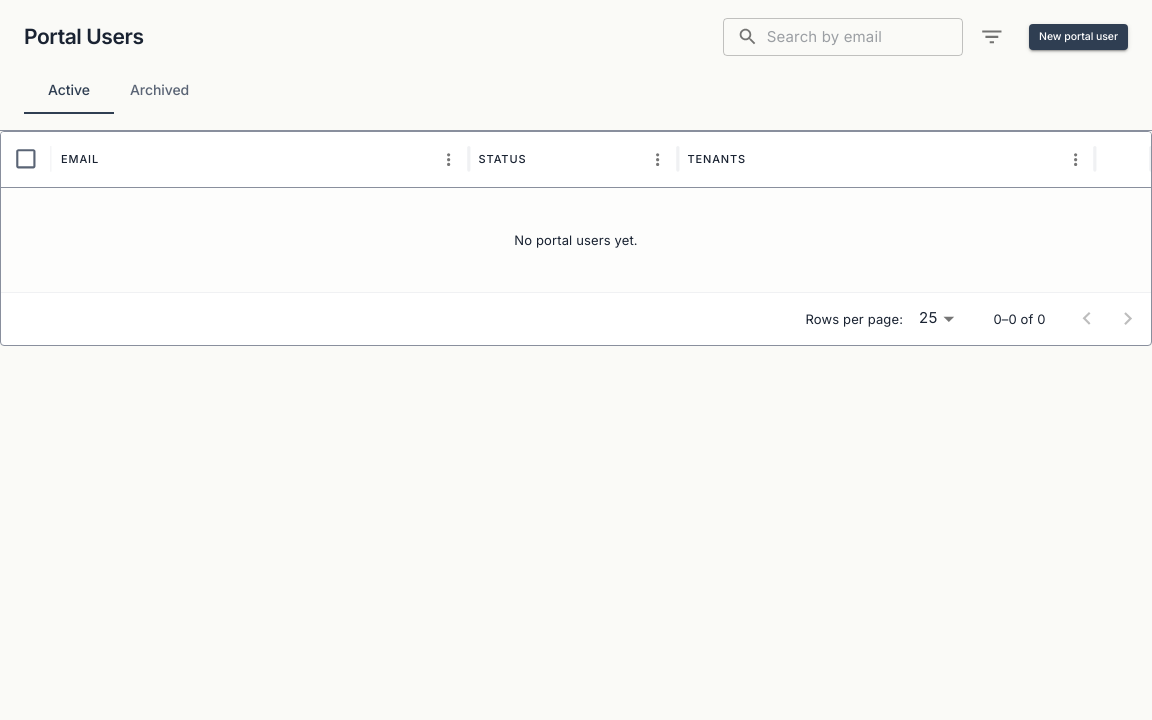
Test: PortalUsersPage › creates a portal user with an idempotency key and reloads the grid
This screenshot has width=1152, height=720.
expect the text "No portal users yet." is shown: met, box [1,188,1151,292]
Click the button "New portal user".
click(1078, 37)  # box [1029,24,1128,50]
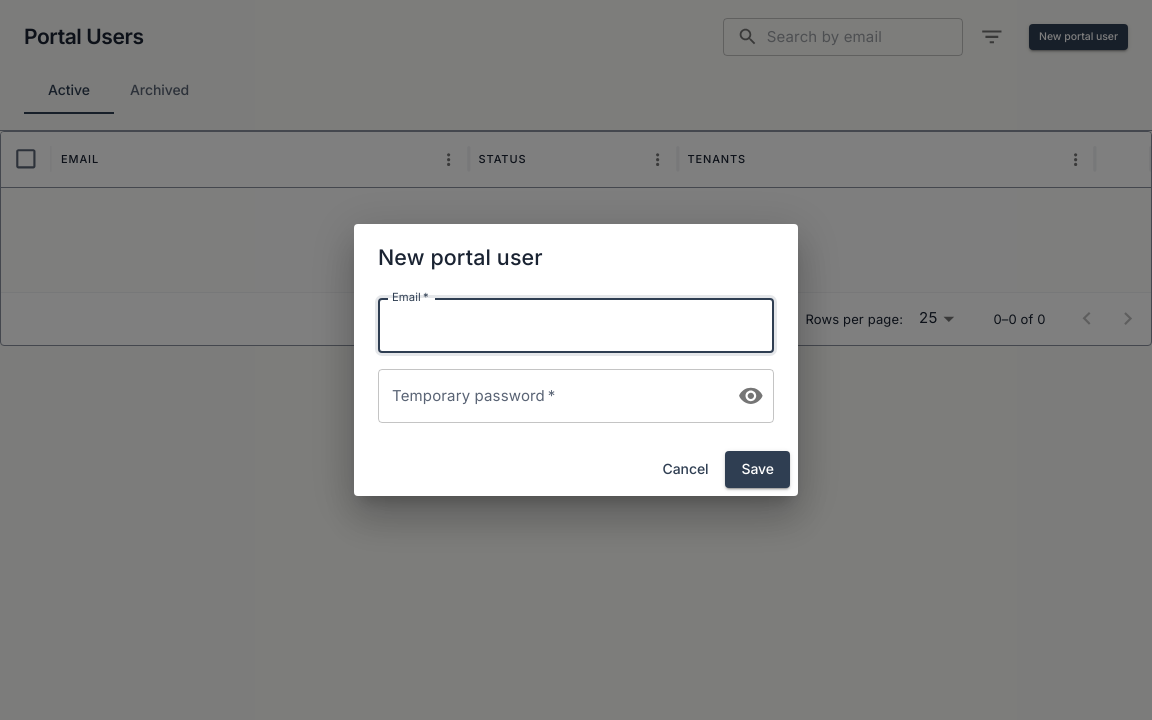
Type "a@example.com" into the field labelled "Email *".
click(576, 326); type("a@example.com")  # box [378,298,774,353]
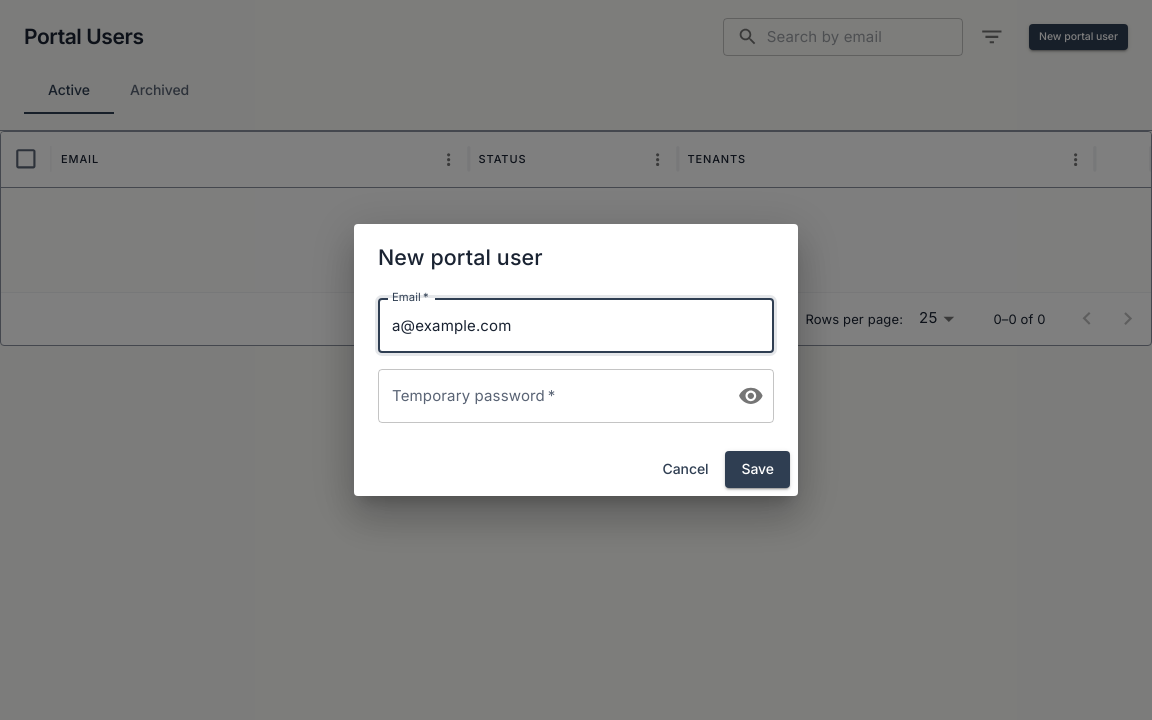
Type "a-temp-password" into the password field labelled "Temporary password *".
click(550, 396); type("a-temp-password")  # box [378,369,722,424]
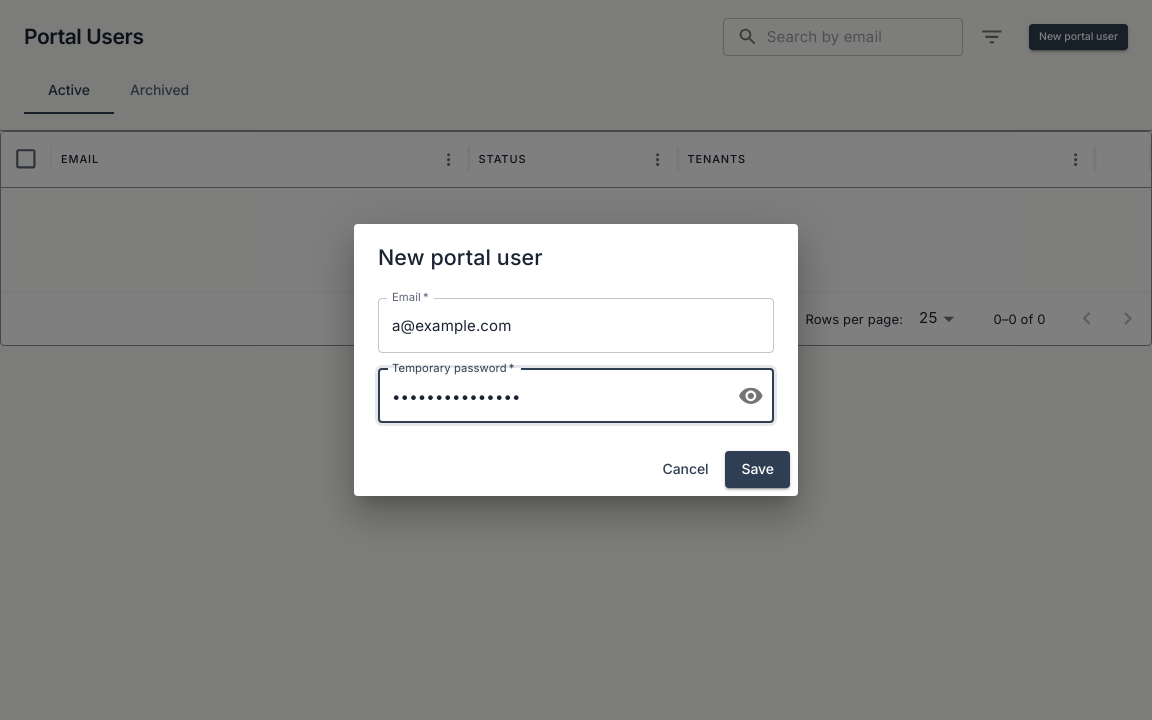
Click the button "Save".
click(758, 470)  # box [726,451,790,488]
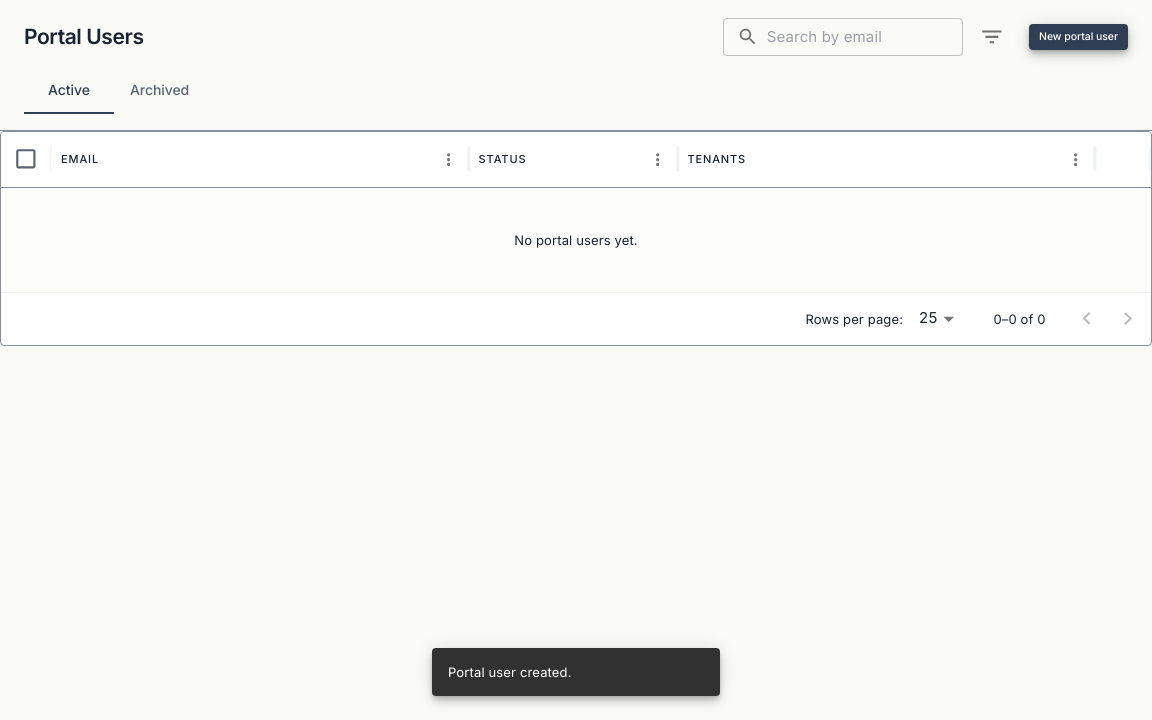
expect the dialog is gone: met
expect the text "Portal user created." is shown: met, box [448,664,572,680]
